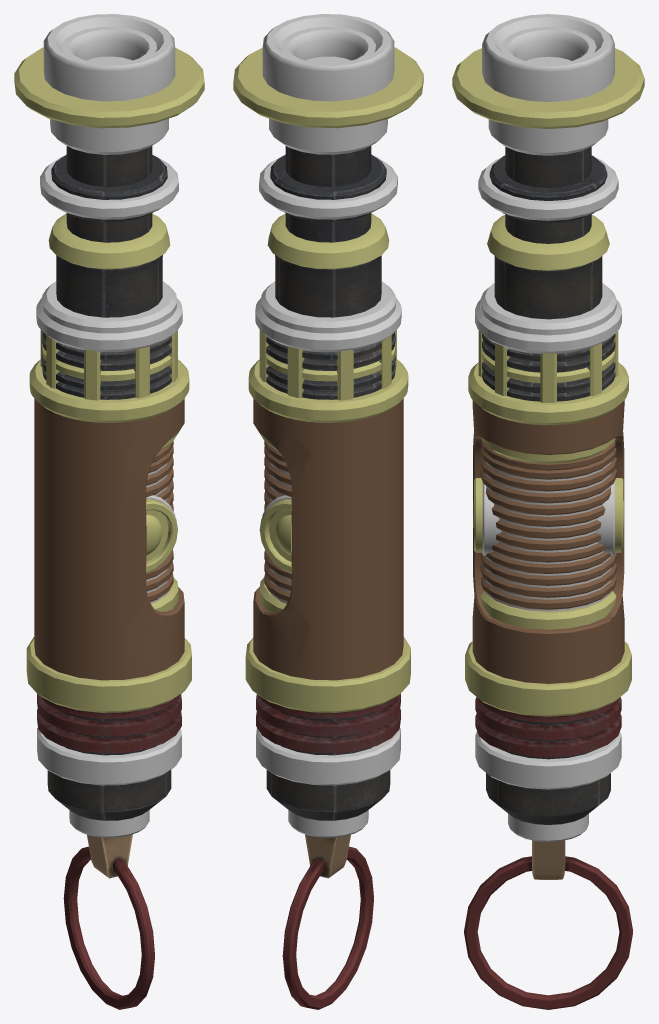
File: desert.fbx
The picture shows the model from 3 angles, left to right: view 1: azimuth 30°, elevation 25°; view 2: azimuth 150°, elevation 25°; view 3: azimuth 270°, elevation 25°; orthographic projection.
Visible parts, largest first — view 1: pCylinder48; view 2: pCylinder48; view 3: pCylinder48.
Part boxes in pixels (x1,y1,x2,y2): pCylinder48: (14,14,204,1009); pCylinder48: (233,14,423,1009); pCylinder48: (452,14,644,1009).
Bounding box in the file's own units: 5.69 × 31.62 × 5.69.
